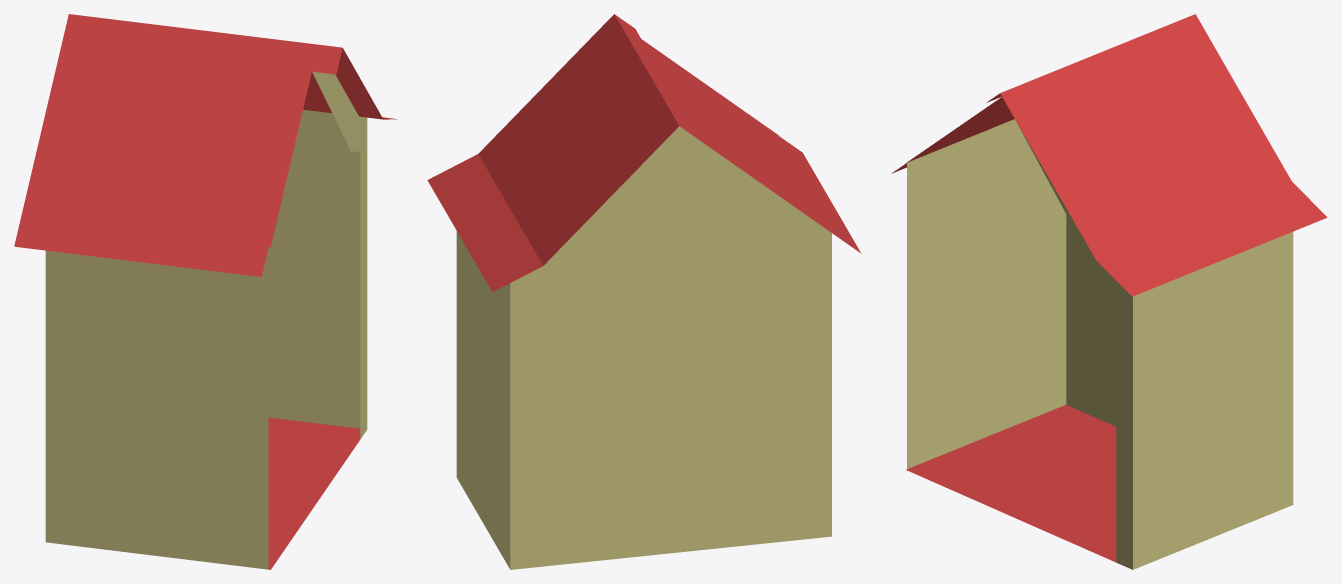
3 renders of one model, left to right at view 1: azimuth 30°, elevation 25°; view 2: azimuth 150°, elevation 25°; view 3: azimuth 270°, elevation 25°, orthographic. The views are drawn at different scales.
Size of the model in its own units: 14.25 by 13.57 by 14.83.
